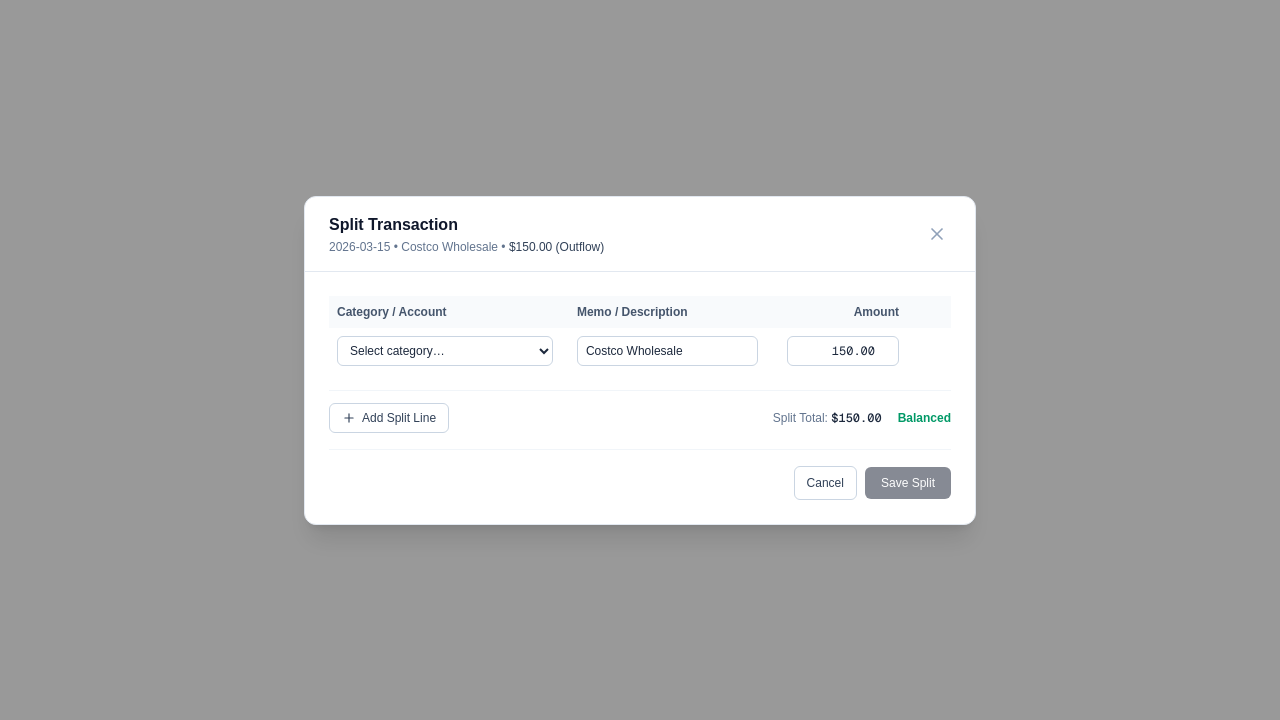
SplitTransactionModal › prevents submission when the sum of split lines does not match the parent total
The width and height of the screenshot is (1280, 720).
Note: Select account for first line
Select "5100 — Groceries" in the dropdown at (445,350), box [337, 336, 553, 366]
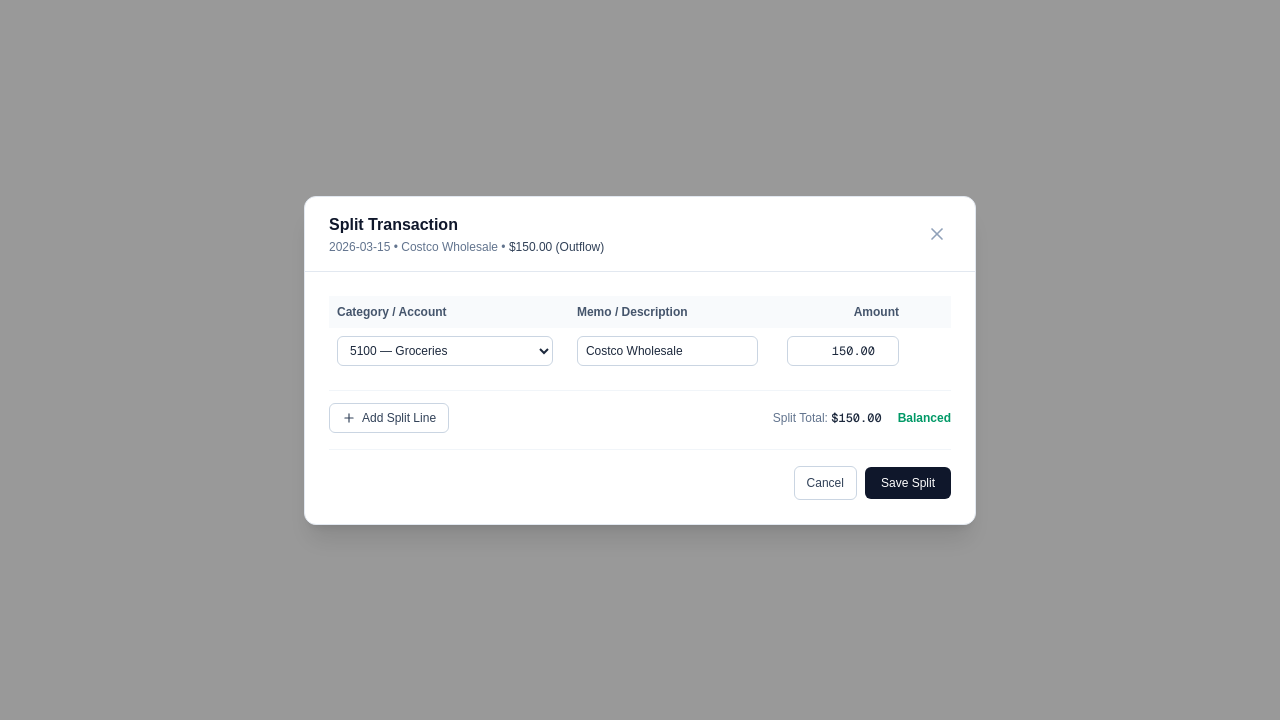
Note: Change amount to 100 (parent is 150)
Replace the text in the number field named "Amount for line 1" with "100.00" at (843,350), box [787, 336, 899, 366]
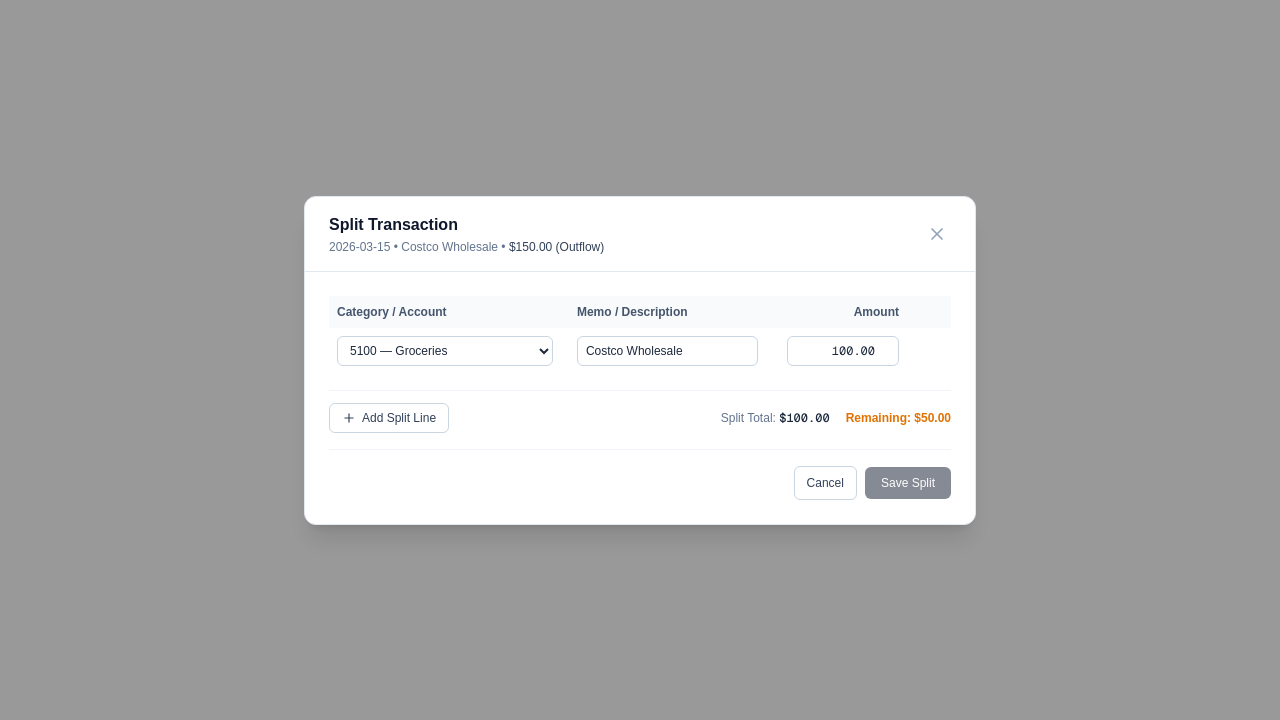
Result: the text "Remaining: $50.00" is shown at [846, 410, 951, 426]
Result: the button "Save Split" is disabled at [865, 466, 951, 498]
